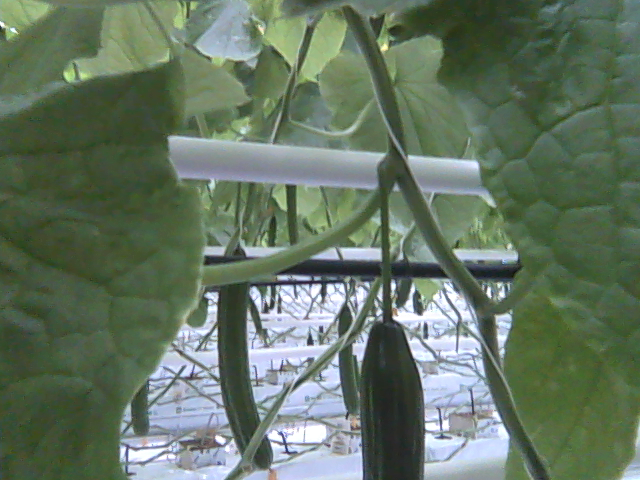concombre: (358, 313, 430, 479)
